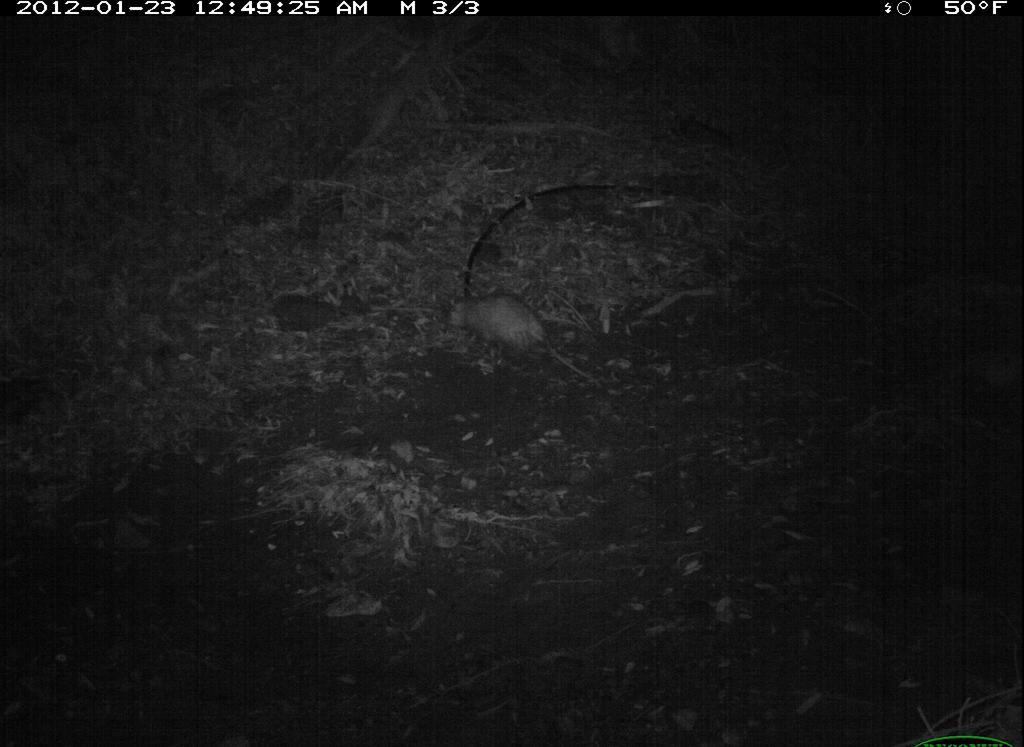opossum: (440, 287, 565, 363)
